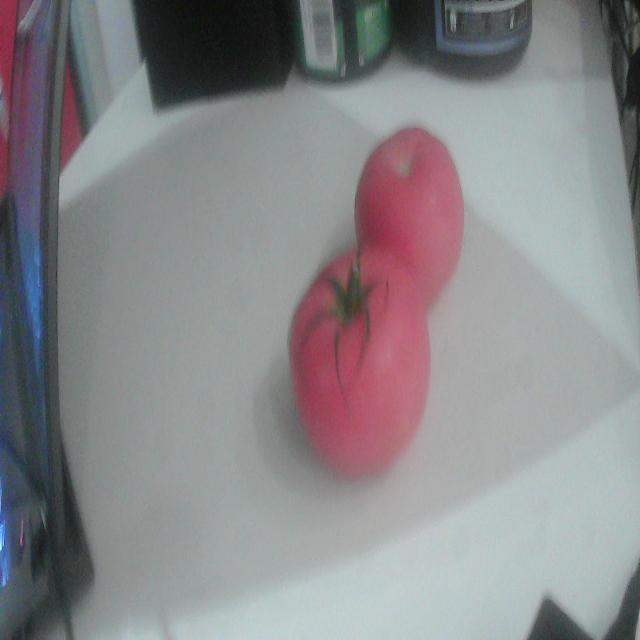Tomato: (290, 247, 430, 476), (354, 127, 464, 303)
